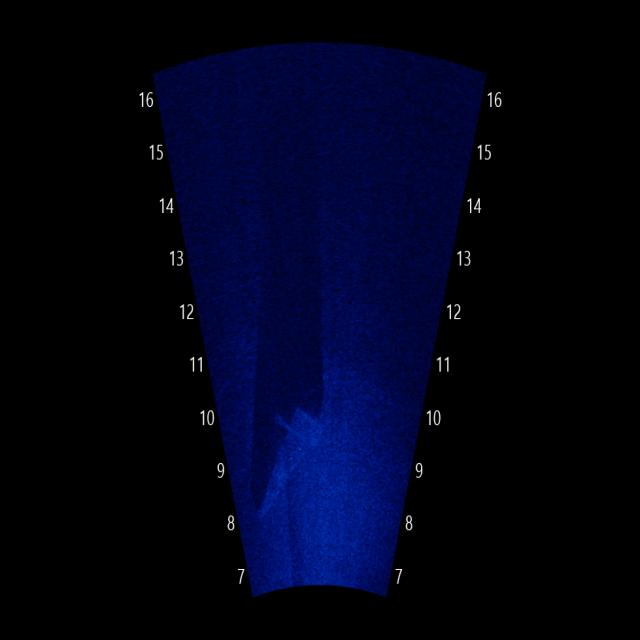triangle: (239, 384, 343, 523)
